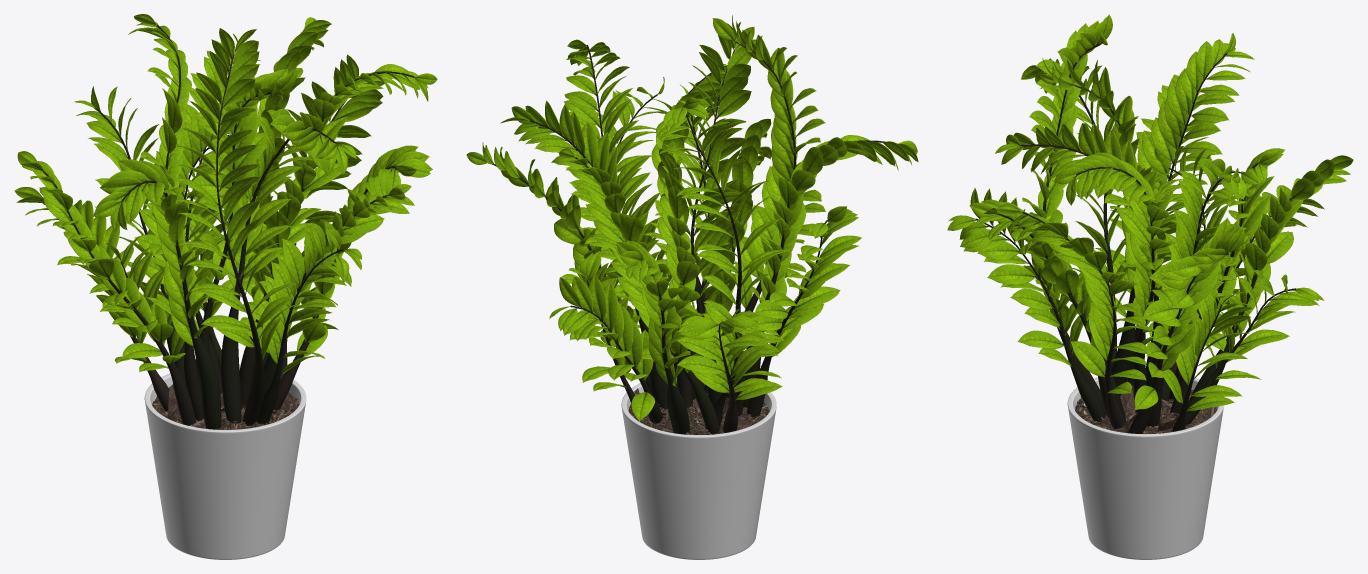
File: plant.gltf
3 views of the same model, side by side, from view 1: azimuth 30°, elevation 25°; view 2: azimuth 150°, elevation 25°; view 3: azimuth 270°, elevation 25° (orthographic). The views are drawn at different scales.
Visible parts, largest first — view 1: PlantZZ001.001, PlantZZVase001.001; view 2: PlantZZ001.001, PlantZZVase001.001; view 3: PlantZZ001.001, PlantZZVase001.001.
Boxes of the visible parts, x1,y1,x2,y2 form: PlantZZ001.001: [14, 14, 437, 429]; PlantZZVase001.001: [144, 364, 306, 559]; PlantZZ001.001: [466, 15, 918, 434]; PlantZZVase001.001: [621, 383, 776, 559]; PlantZZ001.001: [947, 14, 1353, 433]; PlantZZVase001.001: [1067, 377, 1223, 559].
Bounding box in the file's own units: 0.5566 × 0.7333 × 0.5298.
2 materials, 2 textured.
